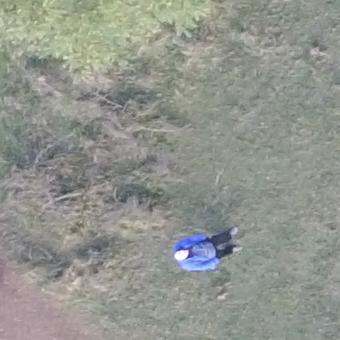human: (172, 225, 244, 276)
